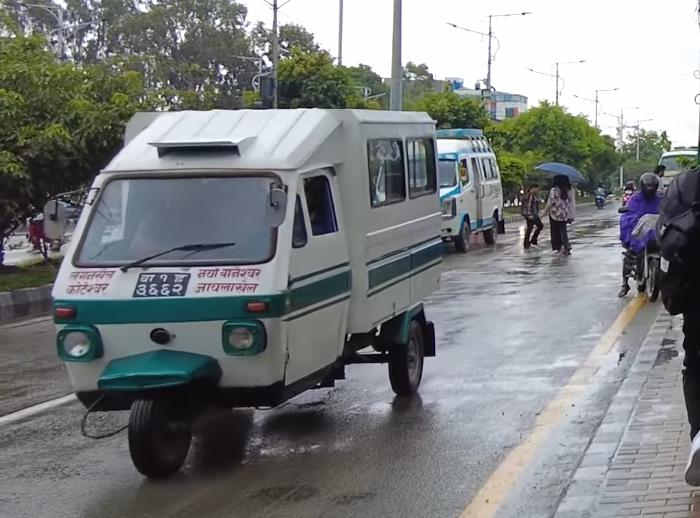bike: (617, 205, 675, 307)
micro_bus: (427, 128, 509, 250)
tempo: (48, 97, 463, 481)
